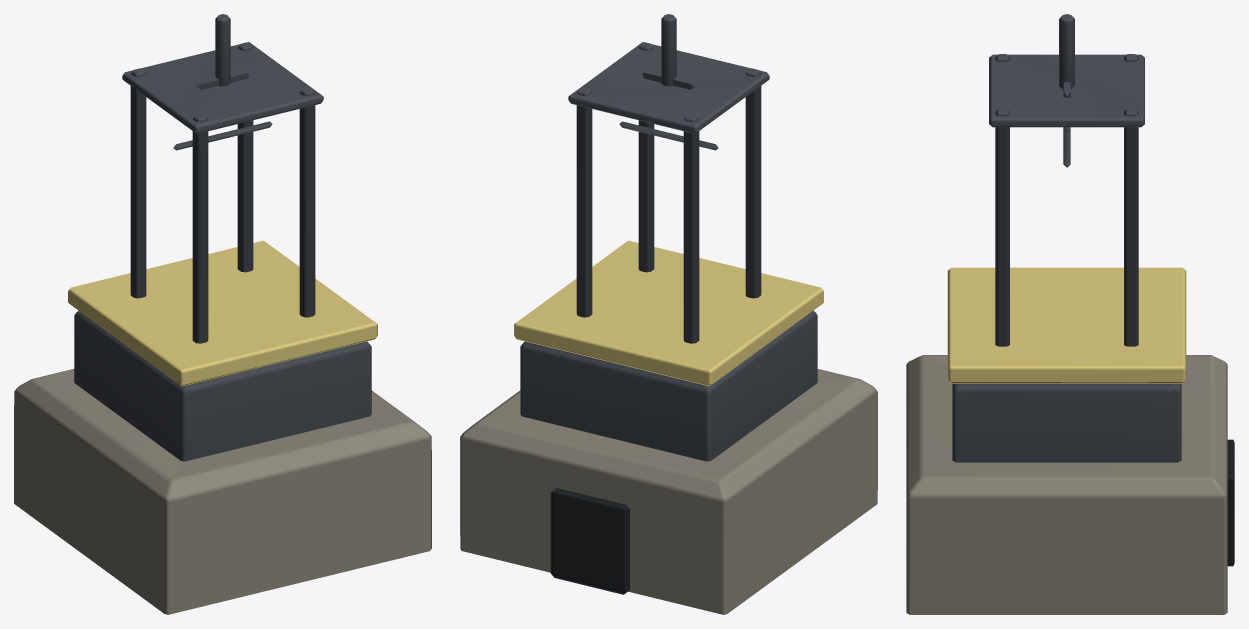
The model's file is comms_outpost.glb.
3 views of the same model, side by side, from view 1: azimuth 30°, elevation 25°; view 2: azimuth 150°, elevation 25°; view 3: azimuth 270°, elevation 25° (orthographic). The views are drawn at different scales.
Parts seen in each view (by area): view 1: Body; view 2: Body; view 3: Body.
Boxes of the visible parts, x1,y1,x2,y2 form: Body: (14, 14, 431, 614); Body: (460, 14, 877, 614); Body: (906, 14, 1234, 614).
Bounding box in the file's own units: 3.5 × 6.4 × 3.58.
